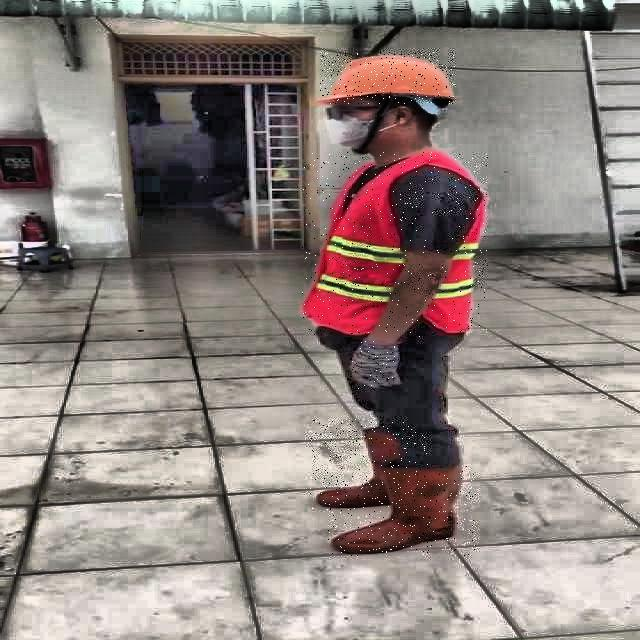safety_helmet: (320, 52, 455, 104)
safety_jacket: (302, 151, 489, 337)
